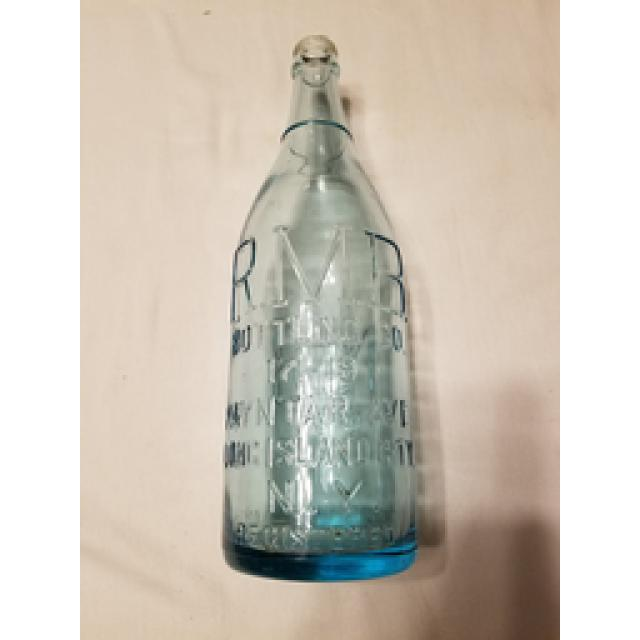glass_beverage_bottles: (220, 35, 440, 585)
